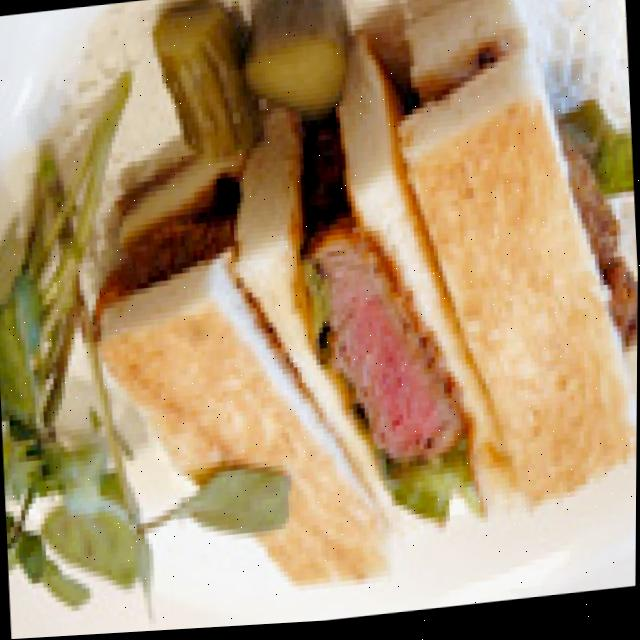三明治: (76, 0, 640, 626)
